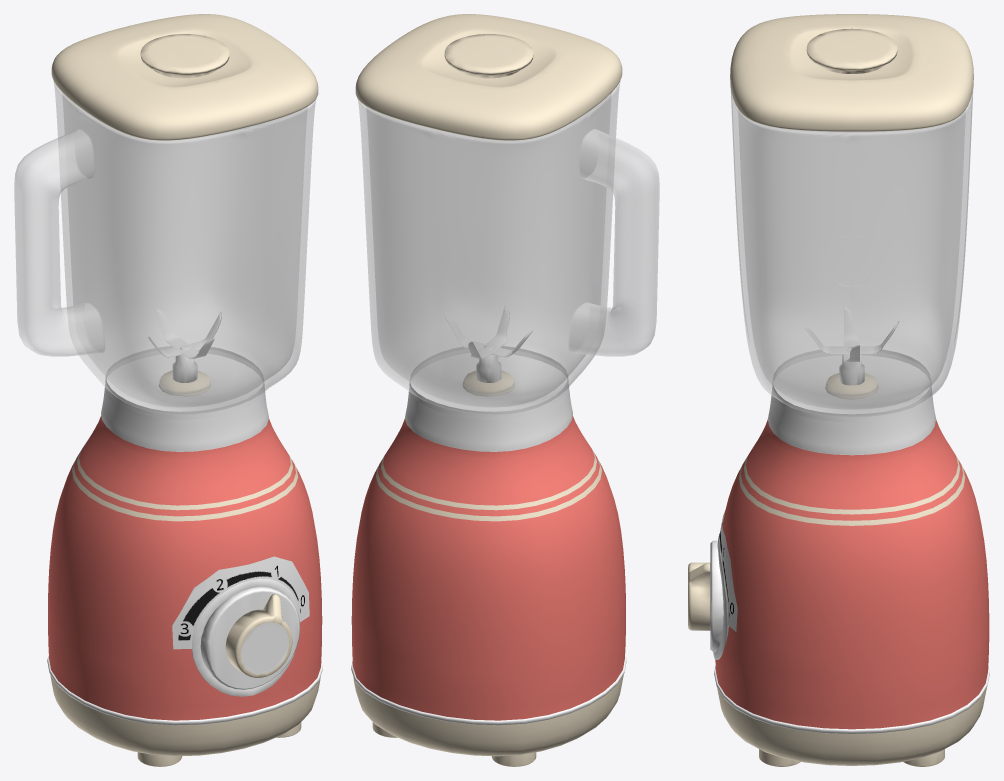
Rendered from Blender.fbx.
3 renders of one model, left to right at view 1: azimuth 30°, elevation 25°; view 2: azimuth 150°, elevation 25°; view 3: azimuth 270°, elevation 25°, orthographic. The views are drawn at different scales.
Parts seen in each view (by area): view 1: Blender; view 2: Blender; view 3: Blender.
Boxes of the visible parts, <box> form: Blender: <box>14,14,322,766</box>; Blender: <box>351,14,659,766</box>; Blender: <box>688,14,989,766</box>.
Bounding box in the file's own units: 20.01 × 45 × 18.07.
Materials: 4 (4 with a texture image).
